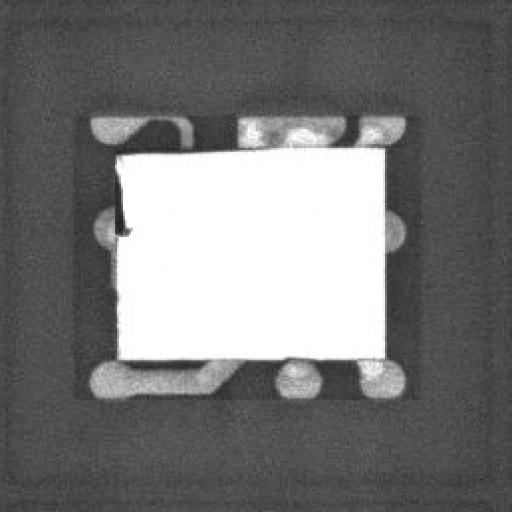DIE_BROKEN: (107, 165, 131, 239)
